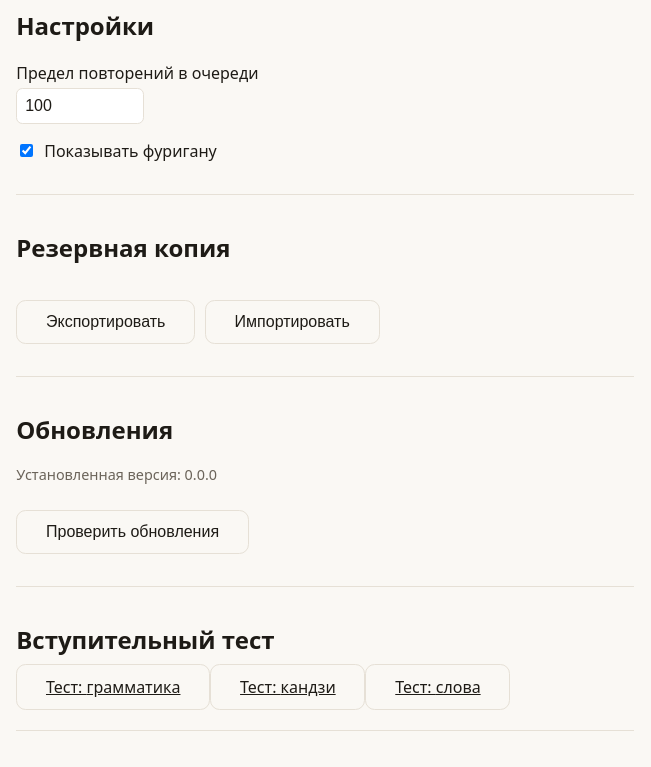
Test case: SettingsScreen › shows "up to date" when the latest release is not newer
This screenshot has width=651, height=767.
Step 1. Click the button "Проверить обновления" → point(133, 532), box [16,510,249,554]
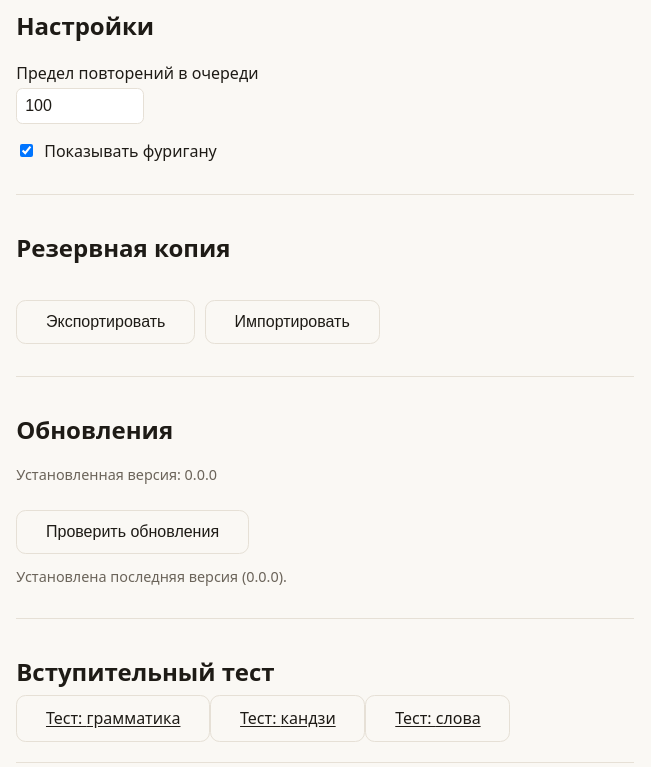
Result: the text "Установлена последняя версия (0.0.0)." is shown at [16,567,287,586]
